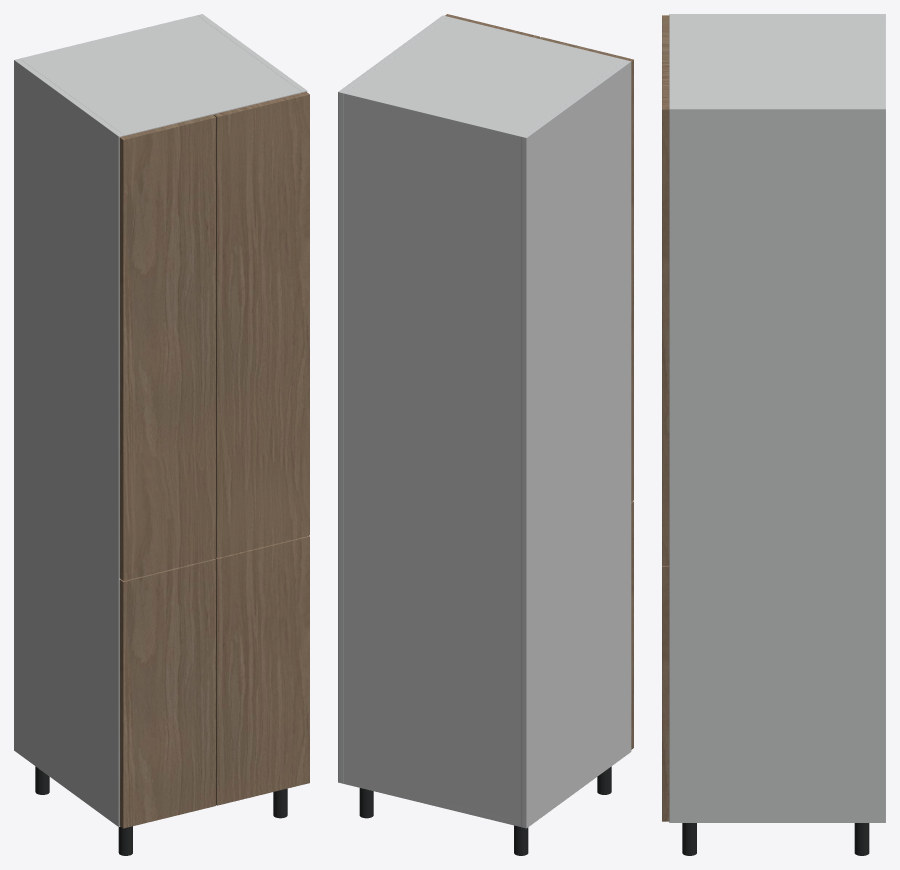
The model's file is oppein-pb-mnw-pc2484.glb.
3 renders of one model, left to right at view 1: azimuth 30°, elevation 25°; view 2: azimuth 150°, elevation 25°; view 3: azimuth 270°, elevation 25°, orthographic. The views are drawn at different scales.
Visible parts, largest first — view 1: Cabinet side, Upper pantry door, Upper pantry door.001, Lower pantry door, Lower pantry door.001, Cabinet top, Cabinet side.001; view 2: Cabinet back, Cabinet side, Cabinet top, Cabinet side.001, Upper pantry door, Lower pantry door; view 3: Cabinet side.001, Cabinet top, Upper pantry door.001, Lower pantry door.001, Cabinet side, Adjustable foot.002, Adjustable foot.003, Cabinet back.
Part boxes in pixels (box(x1,y1,x2,y2)): Cabinet side: box(14, 58, 124, 826); Upper pantry door: box(119, 114, 215, 580); Upper pantry door.001: box(213, 92, 309, 557); Lower pantry door: box(119, 558, 215, 828); Lower pantry door.001: box(215, 535, 309, 805); Cabinet top: box(22, 17, 301, 135); Cabinet side.001: box(197, 14, 307, 92); Cabinet back: box(343, 92, 522, 826); Cabinet side: box(521, 60, 631, 828); Cabinet top: box(343, 17, 625, 140); Cabinet side.001: box(338, 15, 447, 783); Upper pantry door: box(539, 37, 633, 501); Lower pantry door: box(631, 501, 633, 749); Cabinet side.001: box(669, 106, 885, 822); Cabinet top: box(669, 16, 881, 106); Upper pantry door.001: box(662, 62, 669, 565); Lower pantry door.001: box(662, 565, 669, 821); Cabinet side: box(669, 14, 885, 16); Adjustable foot.002: box(854, 823, 869, 855); Adjustable foot.003: box(682, 823, 696, 855); Cabinet back: box(881, 16, 885, 106).
Size of the model in its own units: 0.6096 by 2.25 by 0.6064.
3 materials, 1 textured.
